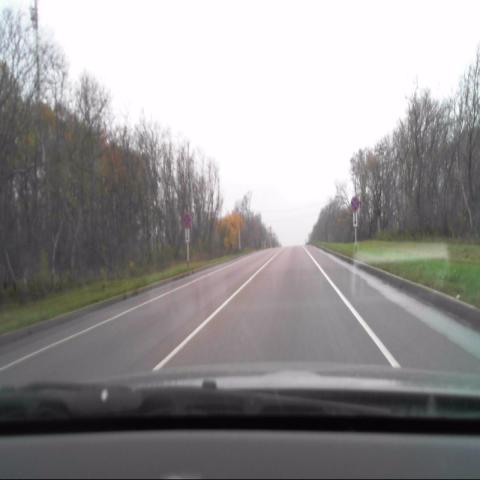3_27: (350, 196, 359, 211), (183, 212, 190, 226)
